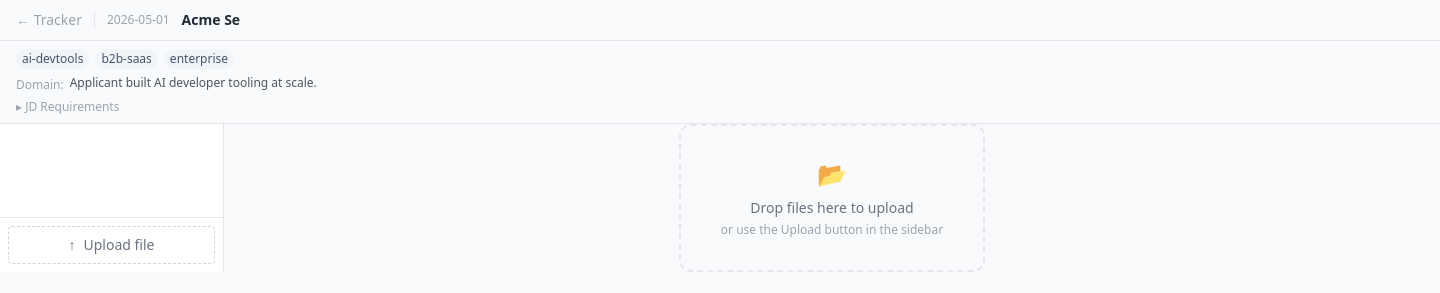
ApplicationView — domain metadata panel › shows domain_connection in edit mode when clicked
Click the button "Applicant built AI developer tooling at scale.": (193, 83) [70, 75, 317, 91]
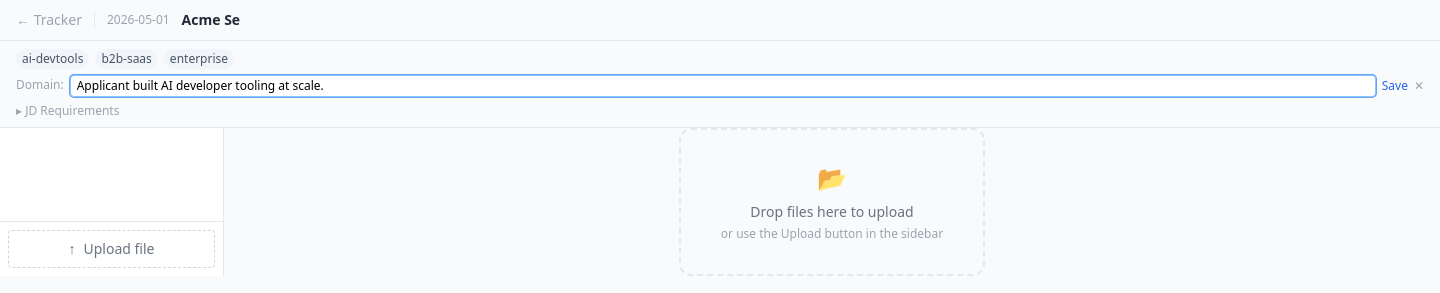
Check: the field showing "Applicant built AI developer tooling at scale." is shown, box [70, 75, 1376, 97]
